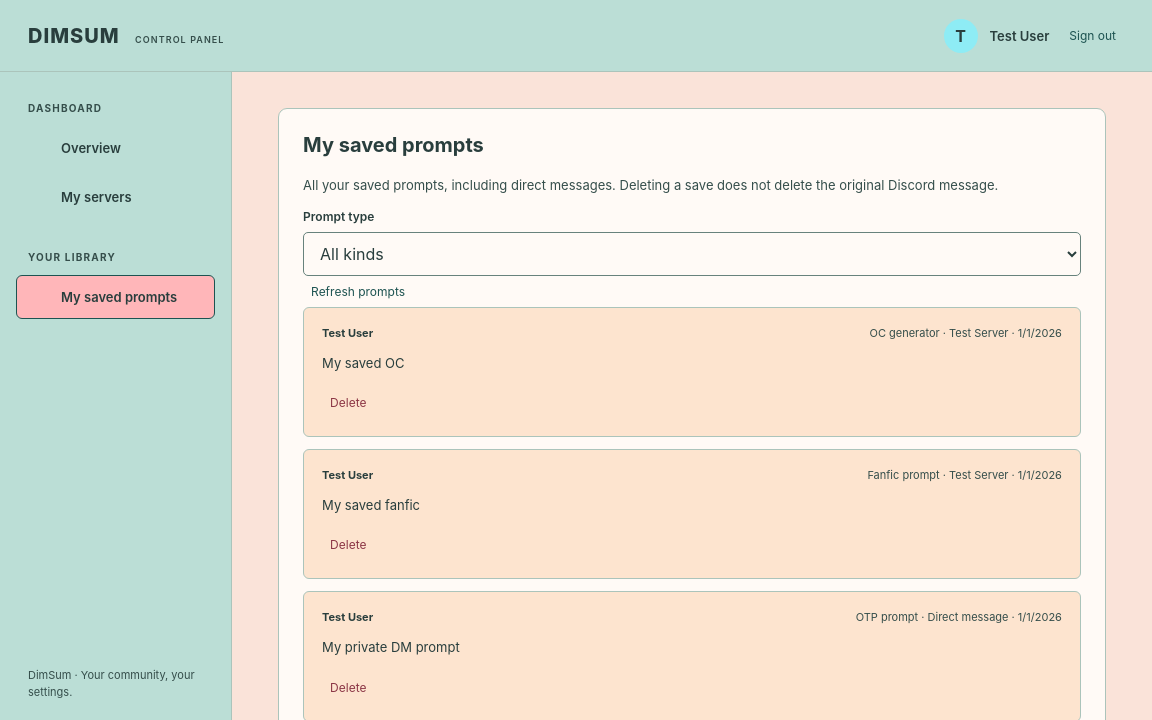
Test: cancelled or failed deletion keeps the saved prompt visible
The width and height of the screenshot is (1152, 720).
Click the button with aria-label "delete saved prompt". click: (348, 403)
box: [322,387,374,418]
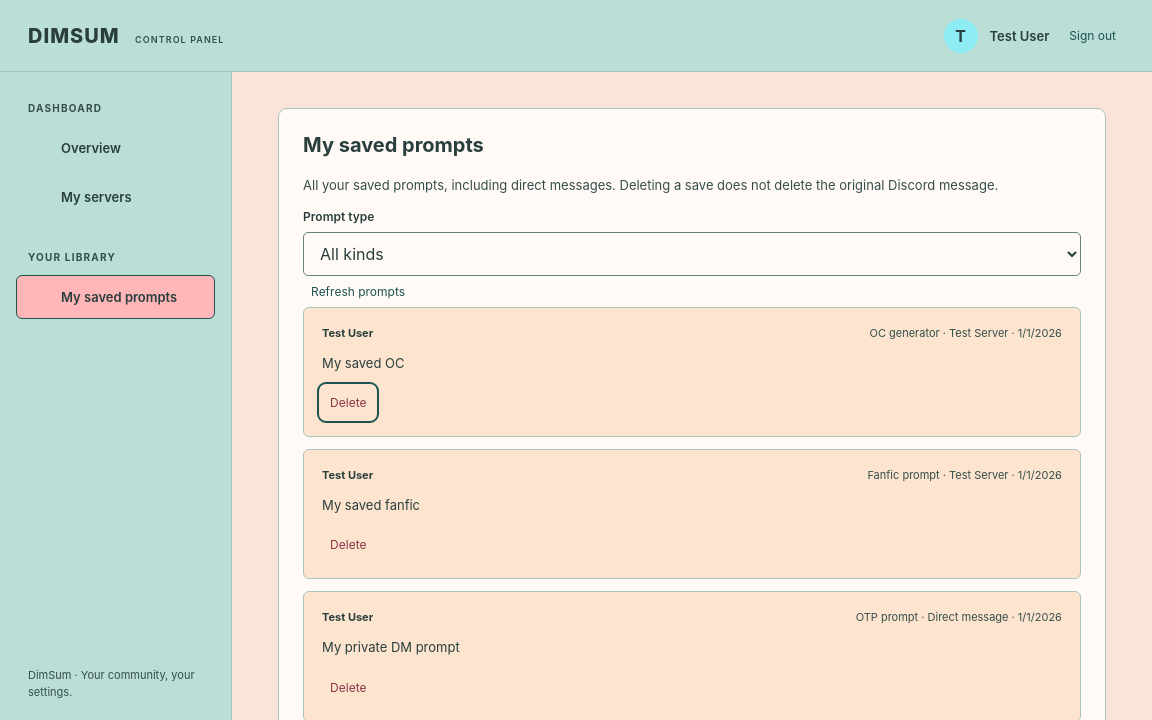
Click the button with aria-label "delete saved prompt". click: (348, 403)
box: [322,387,374,418]
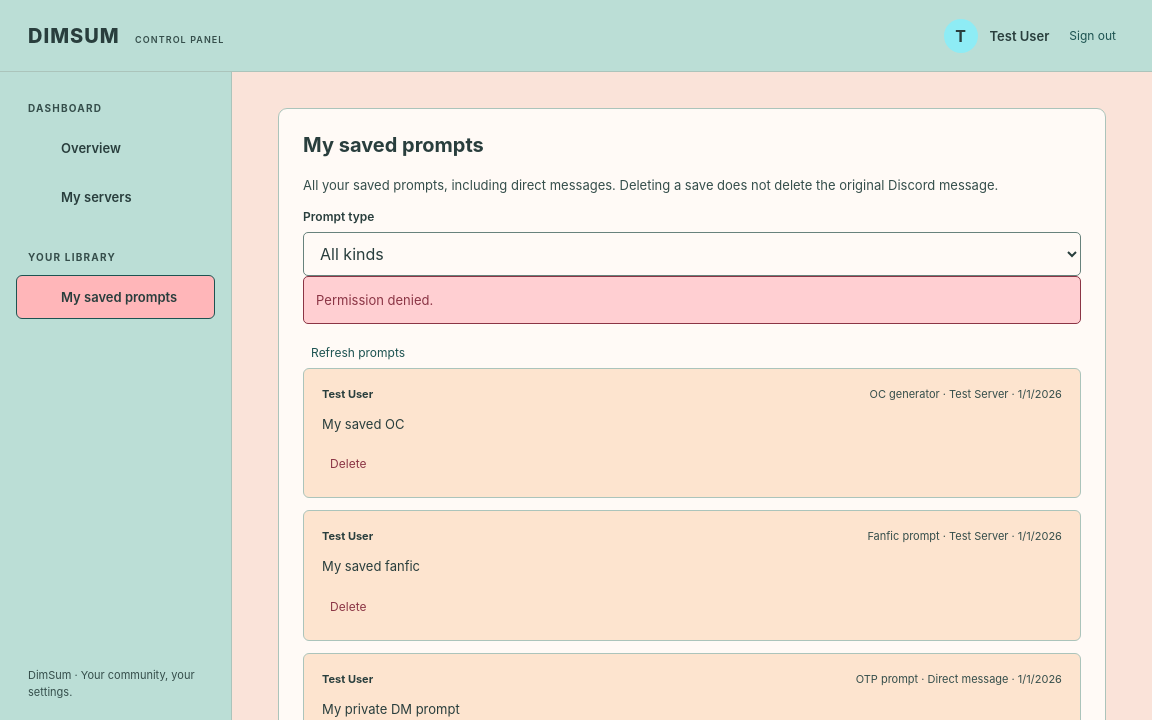
expect the text "My saved OC" is shown: met, box [322,416,404,432]
expect the message reads "Permission denied.": met, box [316,292,433,308]
